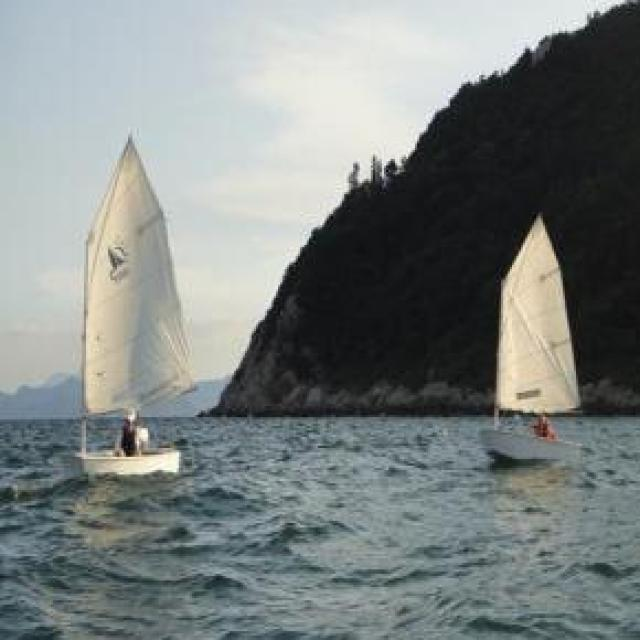sailboat: (67, 126, 202, 480), (482, 211, 592, 466)
